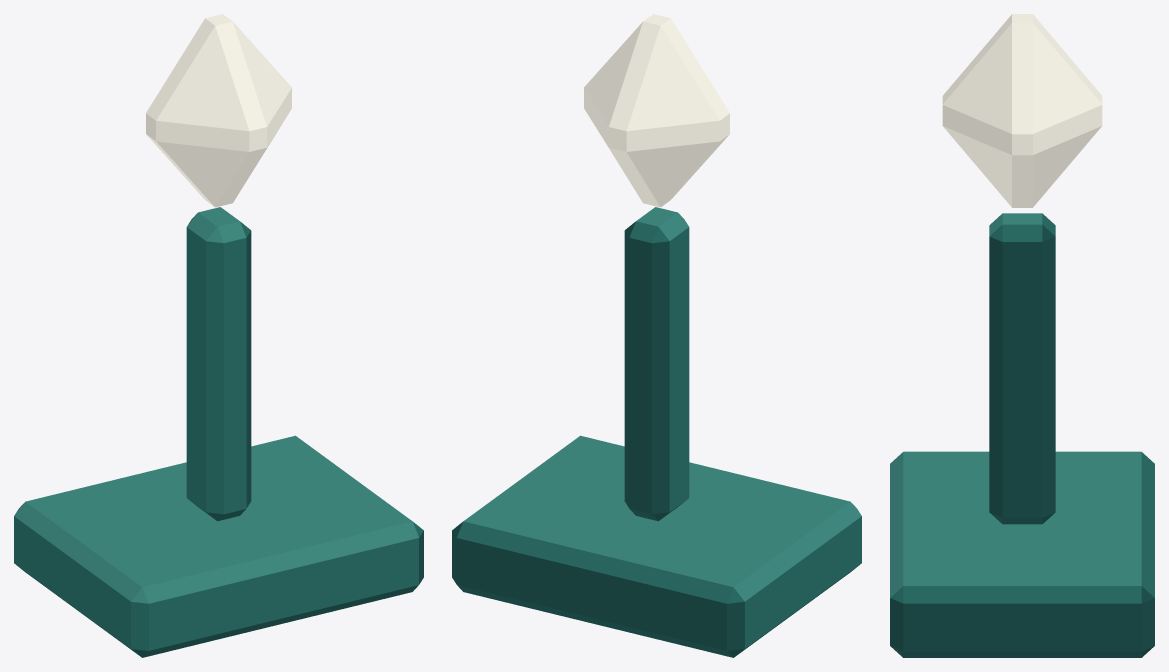
File: Checkpoint_Active.gltf
The picture shows the model from 3 angles, left to right: view 1: azimuth 30°, elevation 25°; view 2: azimuth 150°, elevation 25°; view 3: azimuth 270°, elevation 25°; orthographic projection.
Visible parts, largest first — view 1: Checkpoint_Active_baked; view 2: Checkpoint_Active_baked; view 3: Checkpoint_Active_baked.
Boxes of the visible parts, box(x1,y1,x2,y2) form: Checkpoint_Active_baked: box(14, 14, 423, 657); Checkpoint_Active_baked: box(452, 14, 861, 657); Checkpoint_Active_baked: box(890, 14, 1154, 657).
Size of the model in its own units: 0.52 by 0.9542 by 0.4.
